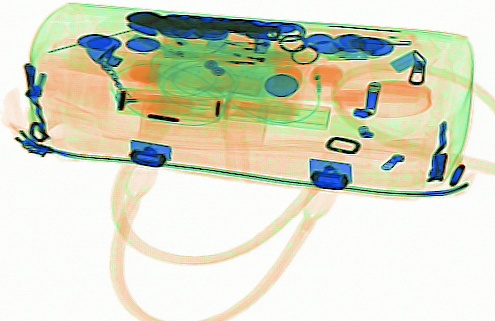lighter: (203, 33, 289, 71)
